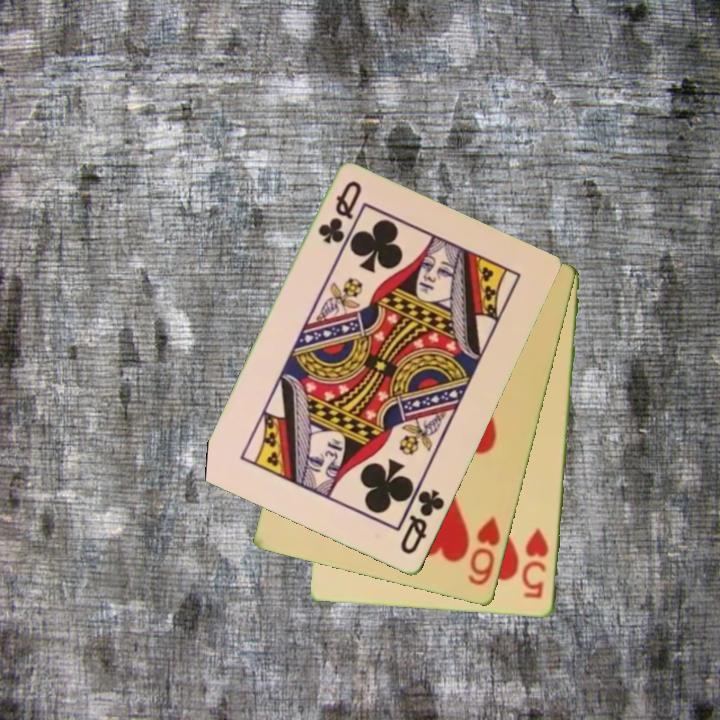5h: (520, 526, 552, 602)
6h: (464, 513, 504, 589)
Qc: (397, 486, 448, 558), (314, 177, 365, 248)
